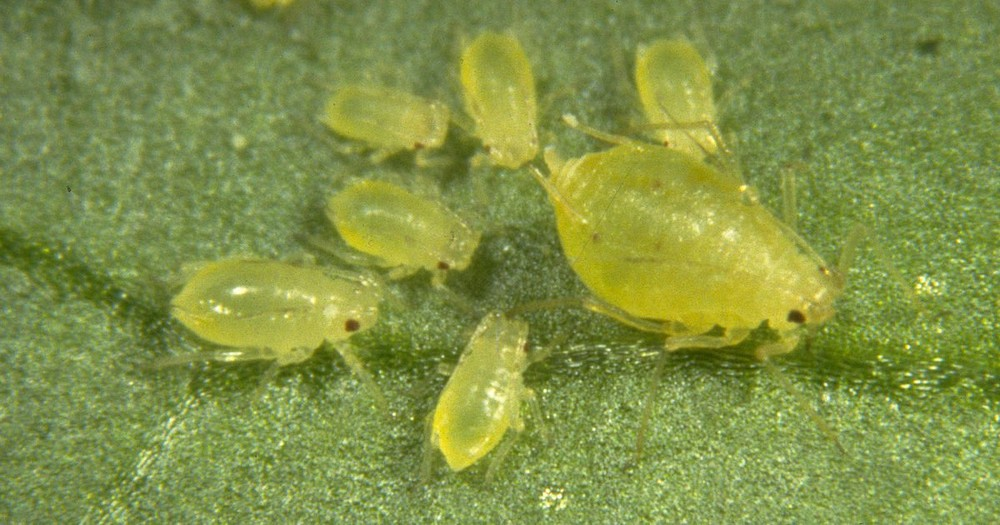Pulgon: (537, 129, 907, 386), (148, 237, 409, 411), (412, 299, 565, 492), (600, 6, 754, 184), (317, 170, 495, 299), (449, 25, 562, 180), (308, 69, 470, 174)
